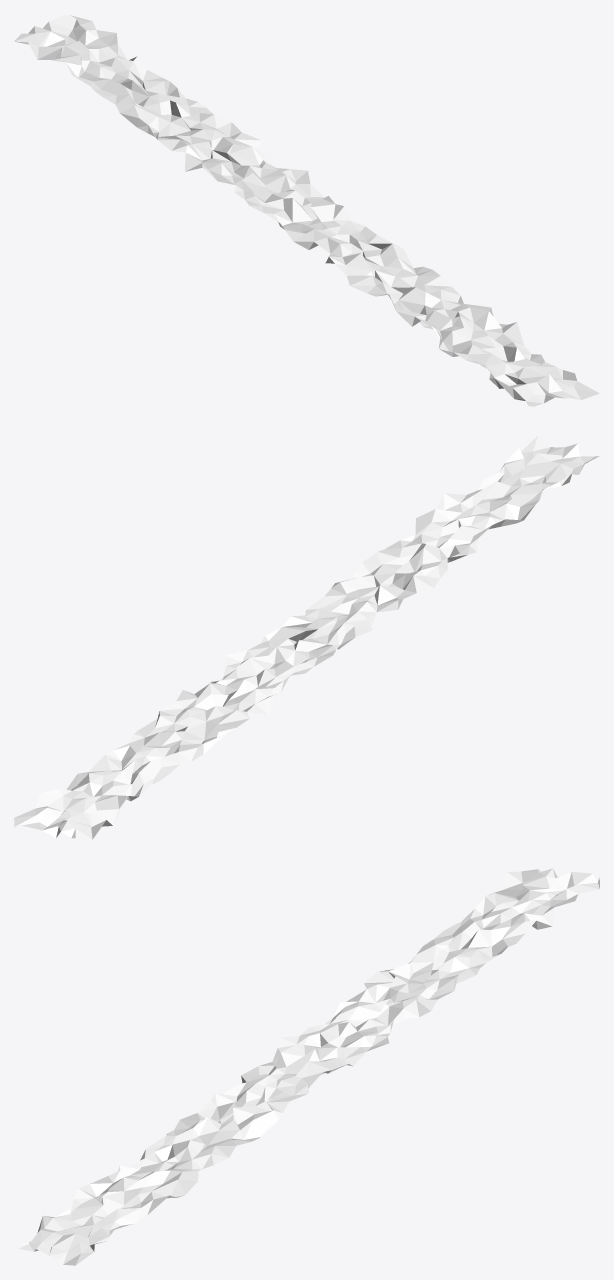
Rendered from ground.obj.
The picture shows the model from 3 angles, top to bottom: view 1: azimuth 30°, elevation 25°; view 2: azimuth 150°, elevation 25°; view 3: azimuth 330°, elevation 25°; orthographic projection.
Parts seen in each view (by area): view 1: 平面; view 2: 平面; view 3: 平面.
Part boxes in pixels (box(x1,y1,x2,y2)): 平面: box(14, 14, 599, 406); 平面: box(14, 435, 599, 839); 平面: box(14, 868, 599, 1265).
Bounding box in the file's own units: 4.69 × 0.9853 × 50.81.
1 material, 1 textured.
